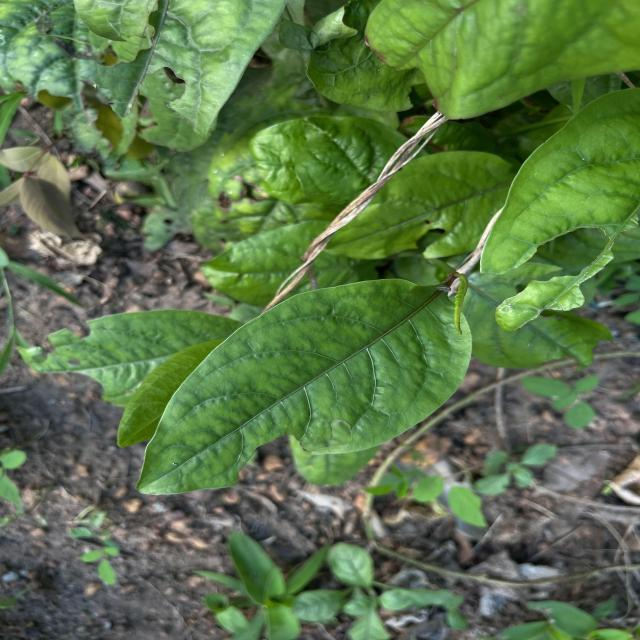Plumbago indica: (121, 276, 476, 502)
